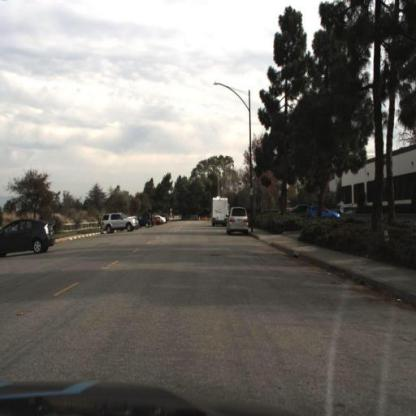car: (1, 217, 56, 262), (102, 212, 140, 238), (225, 203, 251, 236), (305, 204, 343, 225), (137, 211, 154, 232)
